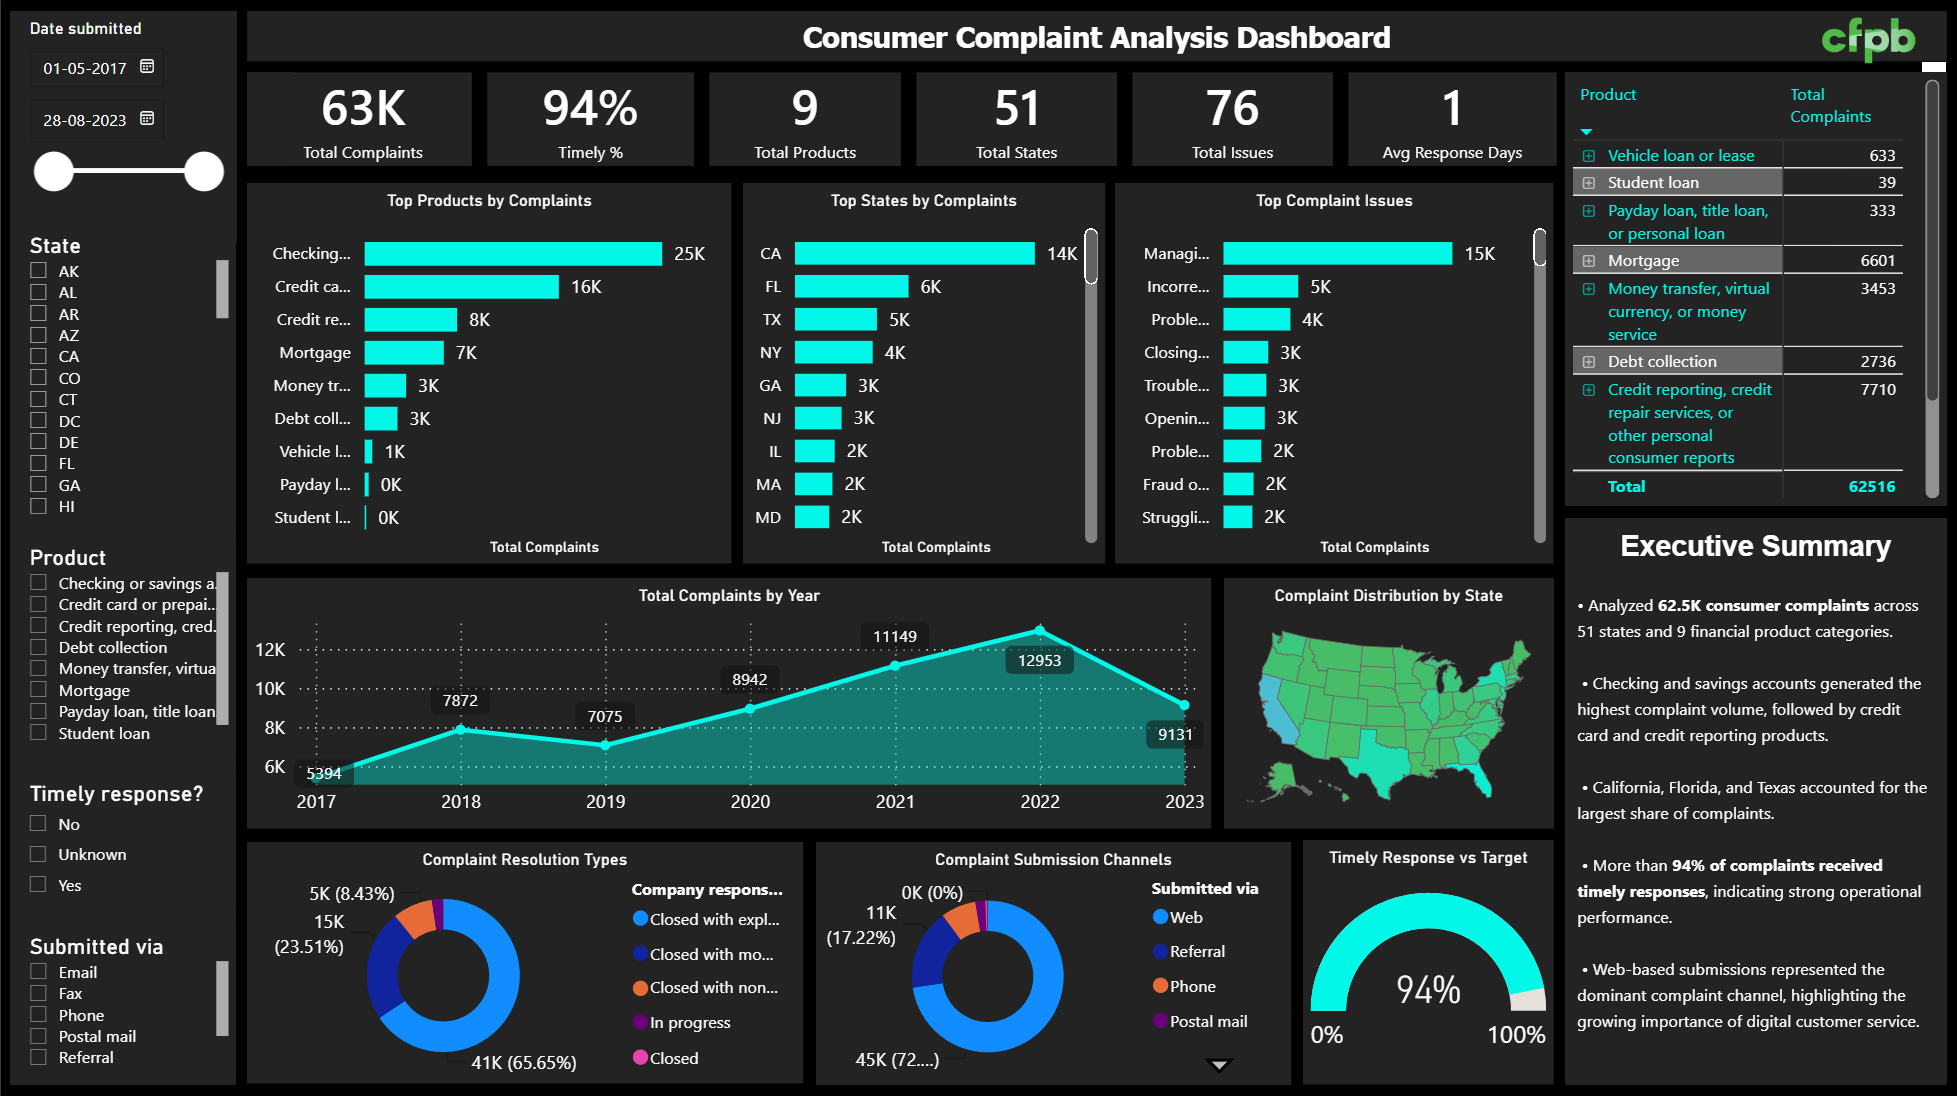

What the dashboard file says about the page in this screenshot:
{"tool":"powerbi","page":{"name":"Page 1","canvas":[1280,720],"ordinal":0},"visuals":[{"type":"cardVisual","fields":{"Data":["Data.Total Complaints"]},"box":[161,43.8,152.5,72],"z":0},{"type":"textbox","box":[161,8.5,1112.5,32.7],"z":1000},{"type":"image","box":[1191.7,8.5,81.8,55],"z":2000},{"type":"shape","box":[5.9,8.5,147.9,702.8],"z":3000},{"type":"slicer","fields":{"Values":["Data.Date submitted"]},"box":[5.9,8.5,147.9,151.2],"z":4000},{"type":"slicer","fields":{"Values":["Data.State"]},"box":[5.9,146.6,147.9,193.7],"z":5000},{"type":"slicer","fields":{"Values":["Data.Product"]},"box":[5.9,354,147.9,140.7],"z":6000},{"type":"slicer","fields":{"Values":["Data.Submitted via"]},"box":[5.9,509.8,147.9,97.5],"z":7000},{"type":"slicer","fields":{"Values":["Data.Timely response?"]},"box":[5.9,615.1,147.9,89.7],"z":8000},{"type":"cardVisual","fields":{"Data":["Data.Timely %"]},"box":[313.5,43.8,145.3,72],"z":9000},{"type":"cardVisual","fields":{"Data":["Data.Total Products"]},"box":[458.7,43.8,135.5,72],"z":10000},{"type":"cardVisual","fields":{"Data":["Data.Total States"]},"box":[594.2,43.8,141.3,72],"z":11000},{"type":"cardVisual","fields":{"Data":["Data.Total Issues"]},"box":[735.5,43.8,141.3,72],"z":12000},{"type":"cardVisual","fields":{"Data":["Data.Avg Response Days"]},"box":[876.9,43.8,146.6,72],"z":13000},{"type":"clusteredBarChart","title":"Top Products by Complaints","fields":{"Category":["Data.Product"],"Y":["Data.Total Complaints"]},"box":[161,121.1,317.4,248.7],"z":14000},{"type":"lineChart","fields":{"Category":["Data.Date submitted.Variation.Date Hierarchy.Year","Data.Date submitted.Variation.Date Hierarchy.Quarter","Data.Date submitted.Variation.Date Hierarchy.Month","Data.Date submitted.Variation.Date Hierarchy.Day"],"Y":["Data.Total Complaints"]},"box":[161,379.6,631.5,164.3],"z":15000},{"type":"clusteredBarChart","title":"Top States by Complaints","fields":{"Y":["Data.Total Complaints"],"Category":["Data.State"]},"box":[485.6,121.1,236.9,248.7],"z":16000},{"type":"clusteredBarChart","title":"Top Complaint Issues","fields":{"Y":["Data.Total Complaints"],"Category":["Data.Issue"]},"box":[729,121.1,287.3,248.7],"z":17000},{"type":"donutChart","title":"Complaint Submission Channels","fields":{"Y":["Data.Total Complaints"],"Category":["Data.Submitted via"]},"box":[533.3,552.3,310.8,159],"z":18000},{"type":"donutChart","title":"Complaint Resolution Types","fields":{"Y":["Data.Total Complaints"],"Category":["Data.Company response to consumer"]},"box":[161,552.3,363.8,157.7],"z":19000},{"type":"gauge","title":"Timely Response vs Target","fields":{"Y":["Data.Timely %"],"TargetValue":["Data.Response Target"]},"box":[852,551,164.3,160.3],"z":20000},{"type":"shapeMap","title":"Complaint Distribution by State","fields":{"Category":["Data.State"],"Value":["Data.Total Complaints"]},"box":[800.3,379.6,216,164.3],"z":21000},{"type":"pivotTable","title":"Top Products by Complaints","fields":{"Rows":["Data.Product","Data.Issue"],"Values":["Data.Total Complaints"]},"box":[1023.5,48.4,250,284],"z":22000},{"type":"textbox","box":[1023.5,340.3,250,371],"z":23000},{"type":"shape","box":[161,48.4,30.1,61.5],"z":24000}]}

Visuals, with their boxes in screenshot pixels (x1, y1, x2, y2), scaled from the page's 1280x720 canvas onto the 1957x1096 screenshot:
cardVisual - Data.Total Complaints: crop(246, 67, 479, 176)
textbox: crop(246, 13, 1947, 63)
image: crop(1822, 13, 1947, 97)
shape: crop(9, 13, 235, 1083)
slicer - Data.Date submitted: crop(9, 13, 235, 243)
slicer - Data.State: crop(9, 223, 235, 518)
slicer - Data.Product: crop(9, 539, 235, 753)
slicer - Data.Submitted via: crop(9, 776, 235, 924)
slicer - Data.Timely response?: crop(9, 936, 235, 1073)
cardVisual - Data.Timely %: crop(479, 67, 701, 176)
cardVisual - Data.Total Products: crop(701, 67, 908, 176)
cardVisual - Data.Total States: crop(908, 67, 1125, 176)
cardVisual - Data.Total Issues: crop(1125, 67, 1341, 176)
cardVisual - Data.Avg Response Days: crop(1341, 67, 1565, 176)
"Top Products by Complaints" clusteredBarChart: crop(246, 184, 731, 563)
lineChart - Data.Date submitted.Variation.Date Hierarchy.Year x Data.Date submitted.Variation.Date Hierarchy.Quarter: crop(246, 578, 1212, 828)
"Top States by Complaints" clusteredBarChart: crop(742, 184, 1105, 563)
"Top Complaint Issues" clusteredBarChart: crop(1115, 184, 1554, 563)
"Complaint Submission Channels" donutChart: crop(815, 841, 1291, 1083)
"Complaint Resolution Types" donutChart: crop(246, 841, 802, 1081)
"Timely Response vs Target" gauge: crop(1303, 839, 1554, 1083)
"Complaint Distribution by State" shapeMap: crop(1224, 578, 1554, 828)
"Top Products by Complaints" pivotTable: crop(1565, 74, 1947, 506)
textbox: crop(1565, 518, 1947, 1083)
shape: crop(246, 74, 292, 167)
